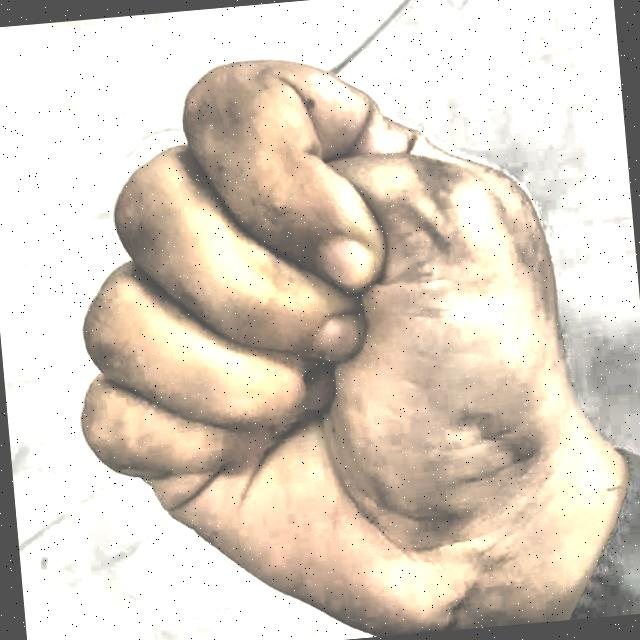To: (20, 8, 616, 640)
